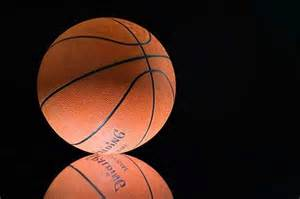basketball: (36, 16, 177, 155)
